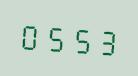five: (43, 18, 67, 55), (68, 20, 92, 57)
three: (93, 21, 117, 59)
zero: (18, 16, 42, 54)
